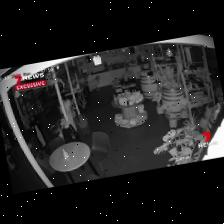person: (88, 76, 100, 91)
